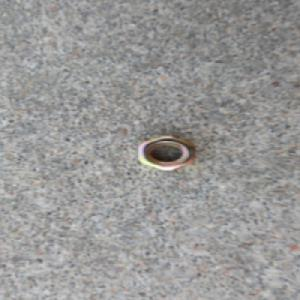Nut: (135, 134, 197, 172)
